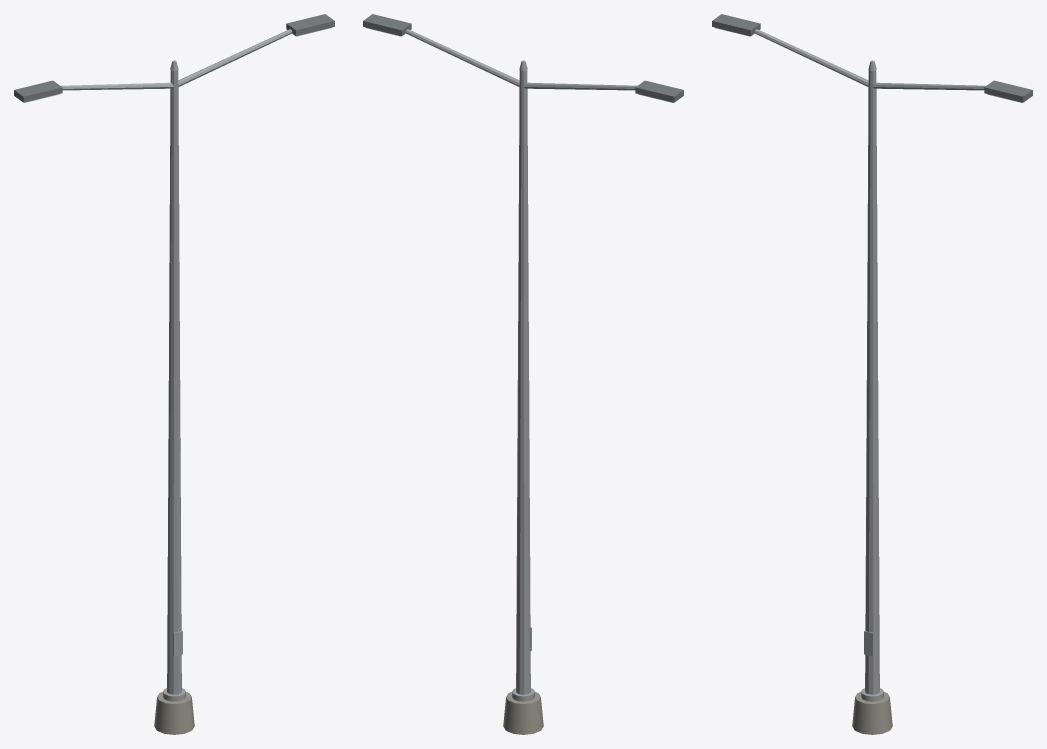
The model's file is street_lamp_double.glb.
3 views of the same model, side by side, from view 1: azimuth 30°, elevation 25°; view 2: azimuth 150°, elevation 25°; view 3: azimuth 330°, elevation 25° (orthographic).
Visible parts, largest first — view 1: street_lamp_double; view 2: street_lamp_double; view 3: street_lamp_double.
Part boxes in pixels (x1,y1,x2,y2): street_lamp_double: [14, 14, 334, 734]; street_lamp_double: [363, 14, 683, 734]; street_lamp_double: [712, 14, 1032, 734].
Bounding box in the file's own units: 4.96 × 10.21 × 0.56.
2 materials, 1 textured.
